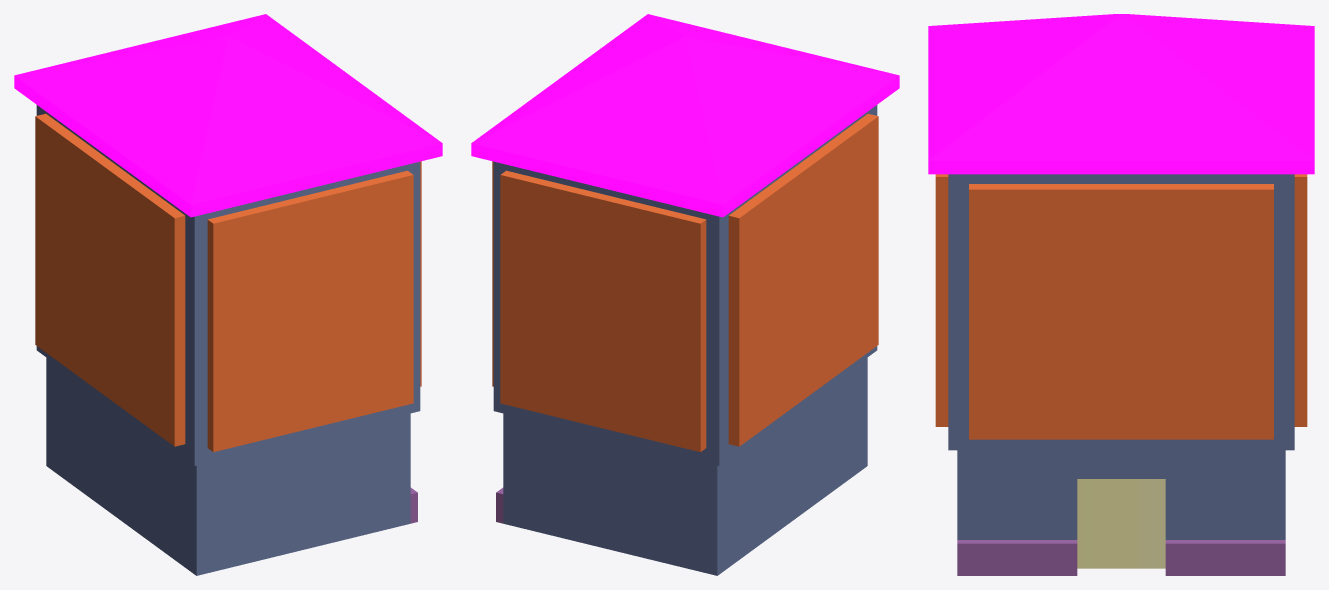
Rendered from purpleAdsTotem_Geo.fbx.
3 renders of one model, left to right at view 1: azimuth 30°, elevation 25°; view 2: azimuth 150°, elevation 25°; view 3: azimuth 270°, elevation 25°, orthographic. The views are drawn at different scales.
Visible parts, largest first — view 1: lilazAdsTotem; view 2: lilazAdsTotem; view 3: lilazAdsTotem.
Boxes of the visible parts, bbox=[...] form: lilazAdsTotem: bbox=[14, 14, 442, 575]; lilazAdsTotem: bbox=[471, 14, 899, 575]; lilazAdsTotem: bbox=[928, 14, 1314, 575].
Size of the model in its own units: 1027 by 1777 by 1248.
Materials: 5 (1 with a texture image).
